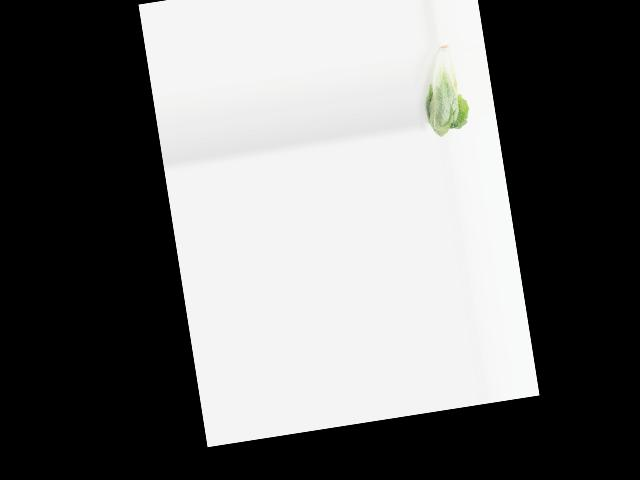lettuce: (413, 38, 473, 138)
